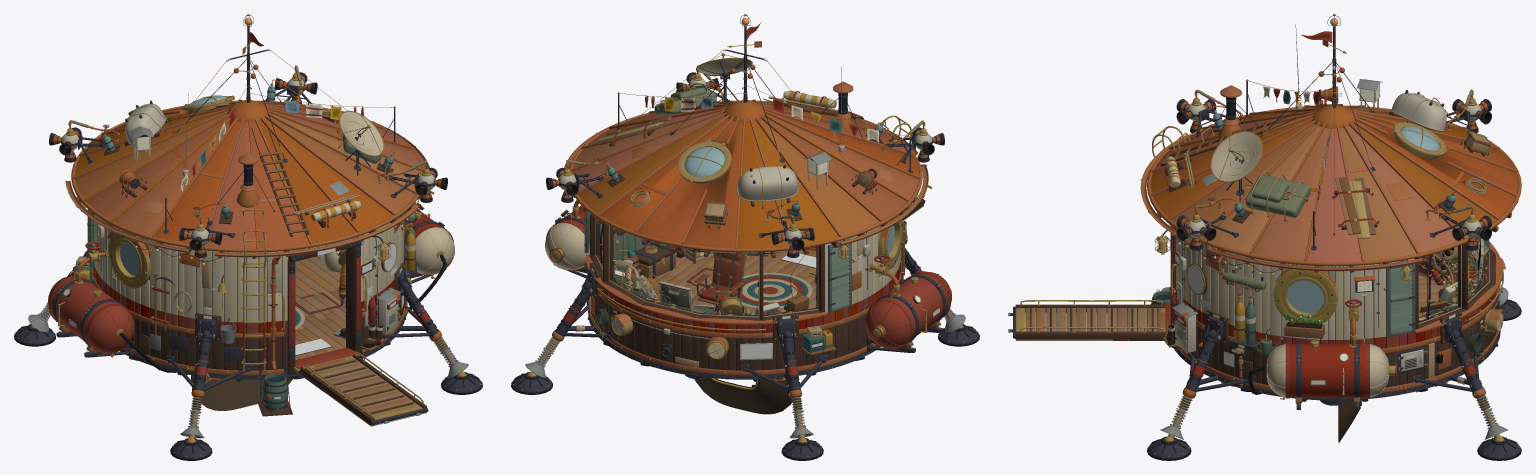
File: ship.glb
3 renders of one model, left to right at view 1: azimuth 30°, elevation 25°; view 2: azimuth 150°, elevation 25°; view 3: azimuth 270°, elevation 25°, orthographic. The views are drawn at different scales.
Visible parts, largest first — view 1: hull, ramp, room, visor, glass; view 2: hull, room, visor, glass, screen; view 3: hull, ramp, room, glass, visor.
Boxes of the visible parts, x1,y1,x2,y2 form: hull: (14, 14, 482, 460); ramp: (299, 351, 428, 426); room: (149, 249, 346, 359); visor: (191, 375, 292, 410); glass: (120, 96, 226, 275); hull: (511, 14, 979, 460); room: (599, 223, 816, 315); visor: (694, 376, 798, 414); glass: (684, 147, 894, 254); screen: (657, 281, 693, 310); hull: (1140, 14, 1521, 460); ramp: (1008, 300, 1165, 340); room: (1418, 240, 1488, 320); glass: (1287, 126, 1489, 312); visor: (1338, 399, 1361, 442).
Bounding box in the file's own units: 7.04 × 7.12 × 7.96.
